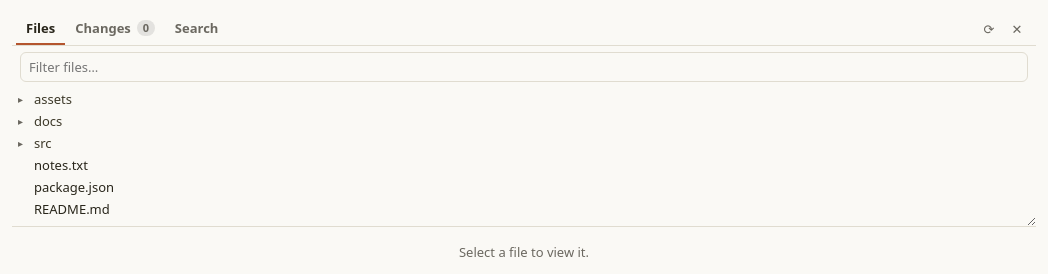
Test case: SidePanel › shows the empty and fallback states of Changes
Click the tab "Changes 0": (115, 28) [65,12,165,45]
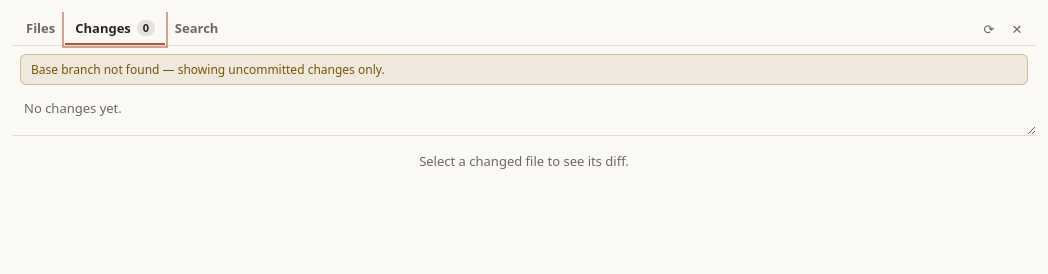
Expected: the text "No changes yet." is shown, [24,99,122,117]
Expected: the text "Base branch not found — showing uncommitted changes only." is shown, [20,54,1028,85]
